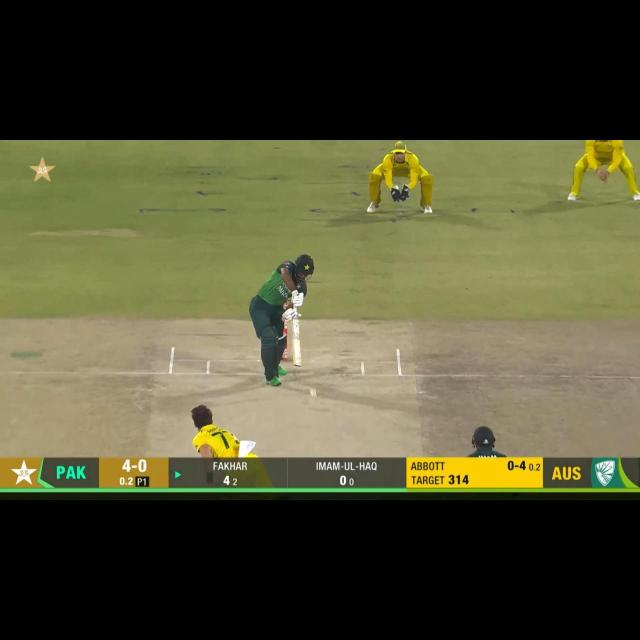bat: (290, 318, 304, 367)
toe: (290, 360, 303, 368)
